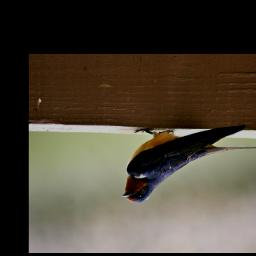Swallow: (121, 124, 256, 205)
